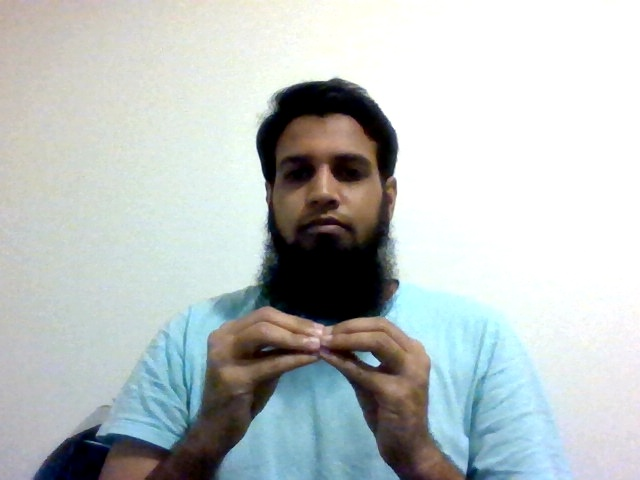more: (201, 304, 433, 459)
